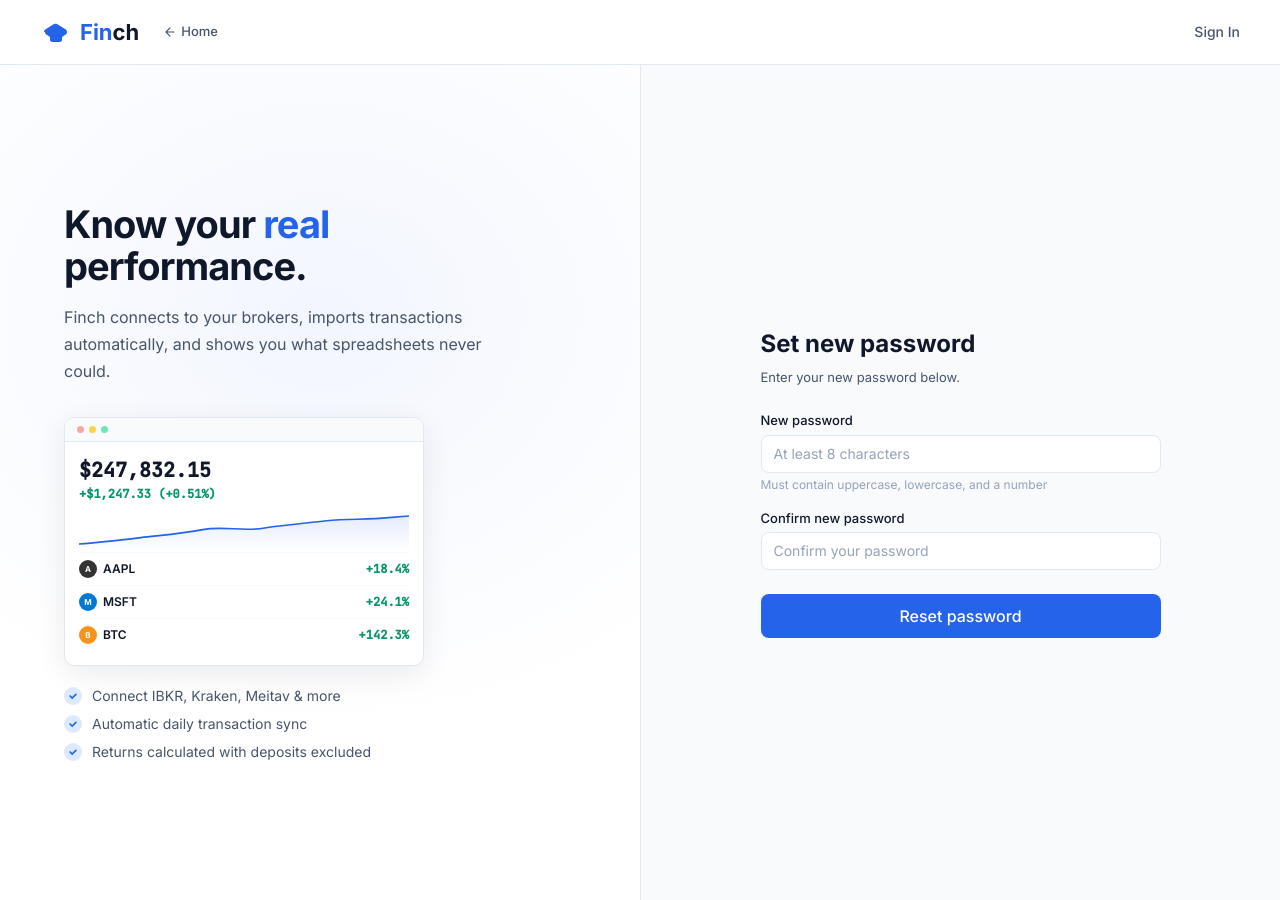
it: ResetPassword › shows error for mismatched passwords
Type "NewPass123" into the password field labelled "New password" at (960, 454), box [760,435,1160,473]
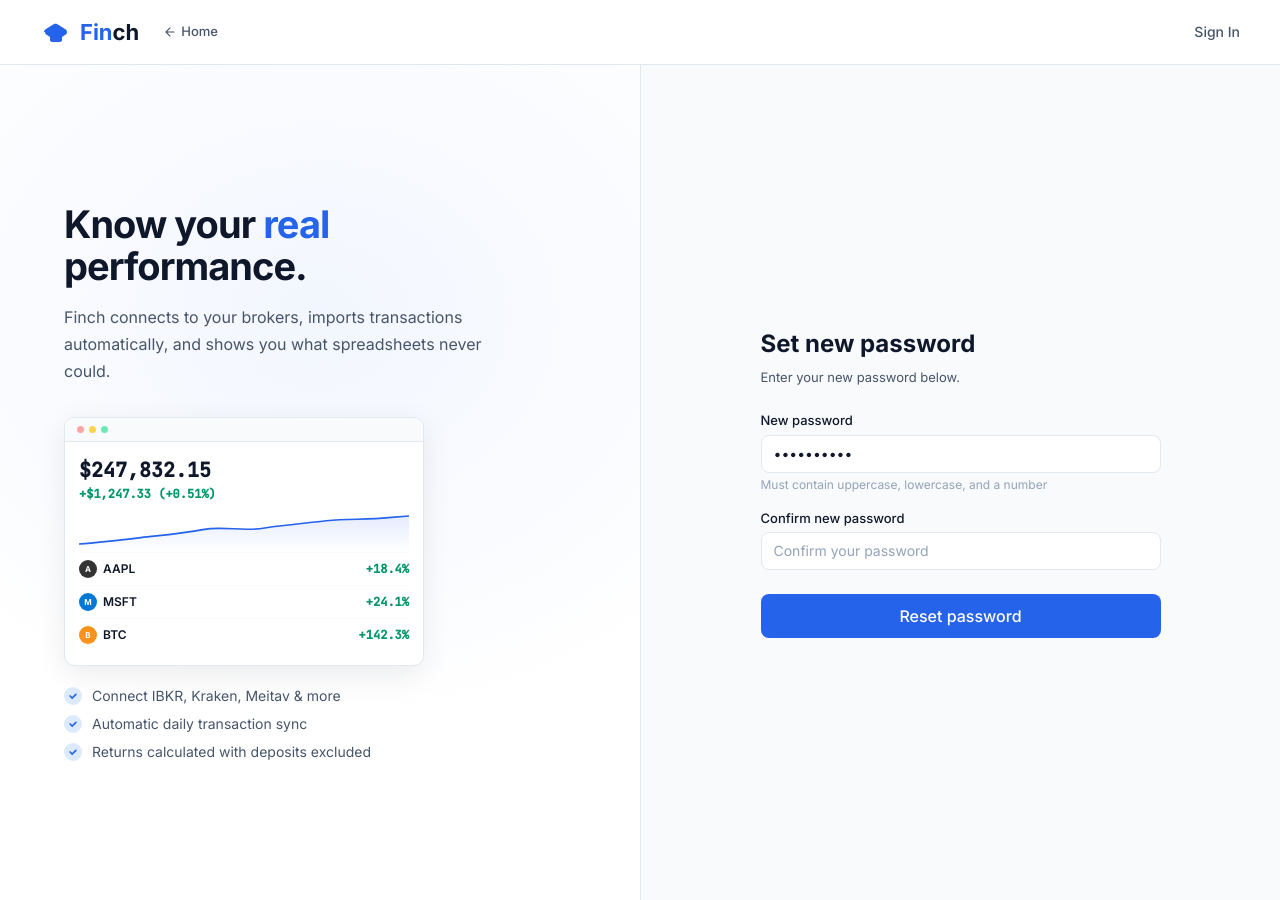
Type "Different123" into the password field labelled "Confirm new password" at (960, 551), box [760,532,1160,570]
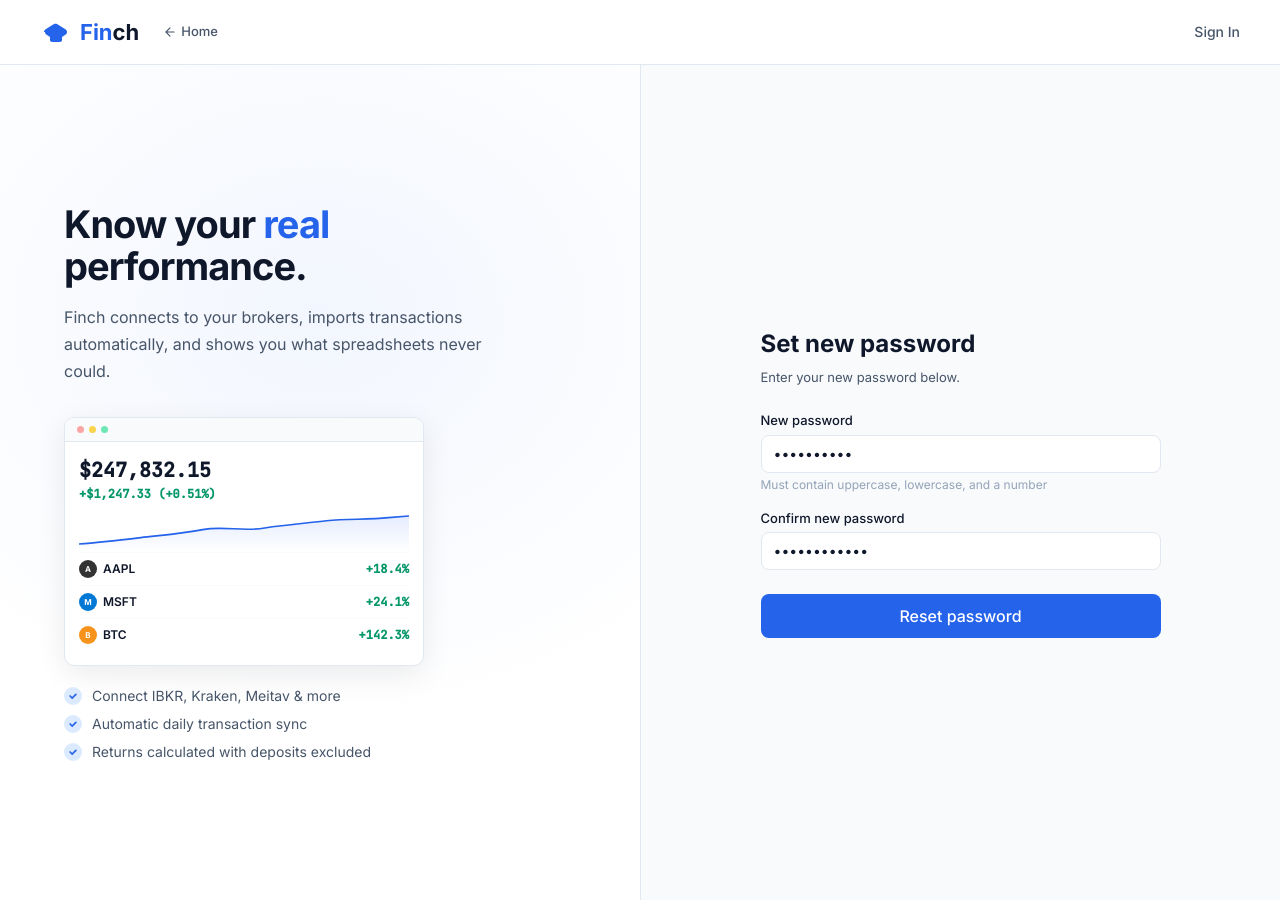
Click the button "Reset password" at (960, 616), box [760,594,1160,638]
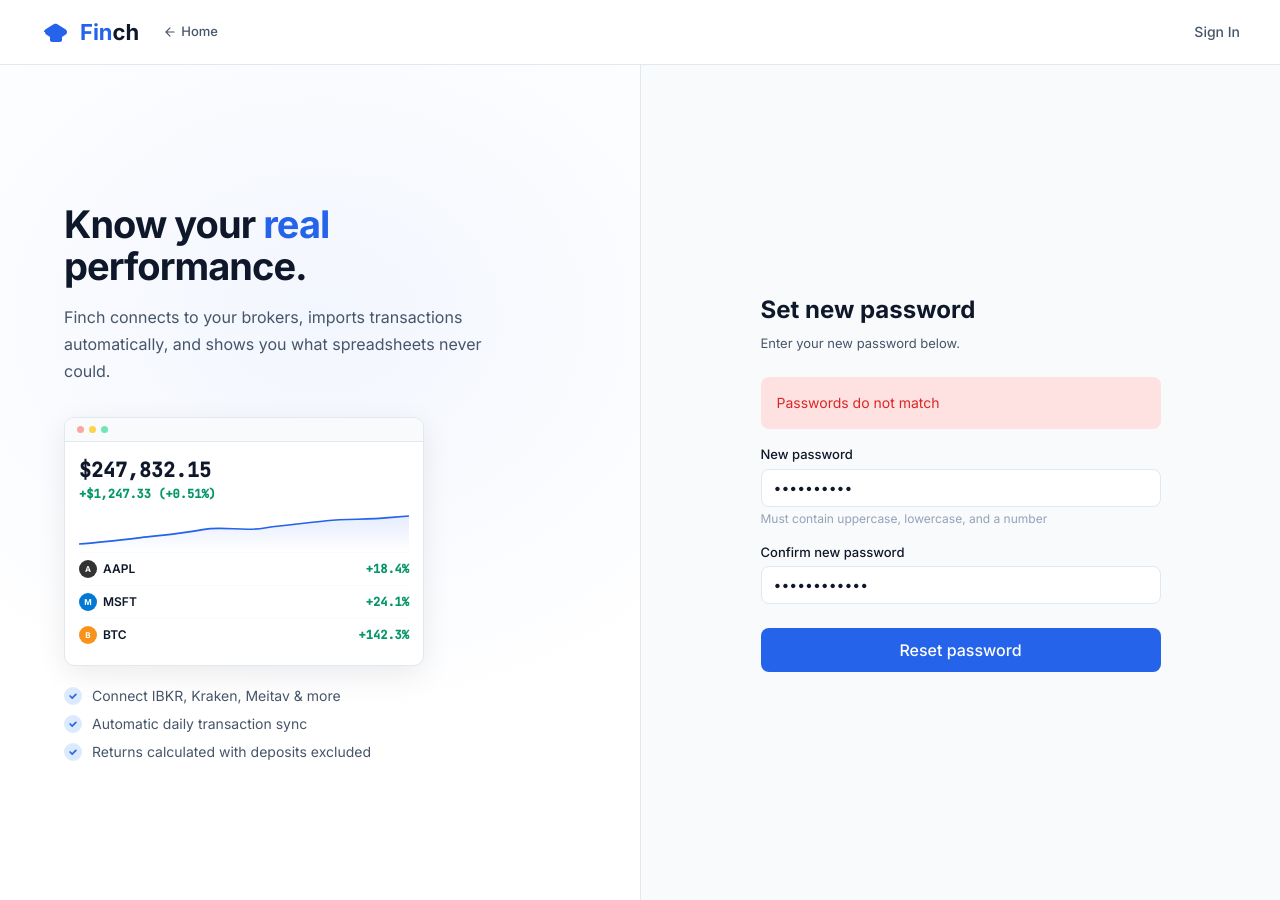
Expected: the text "Passwords do not match" is shown, [776,394,940,411]
